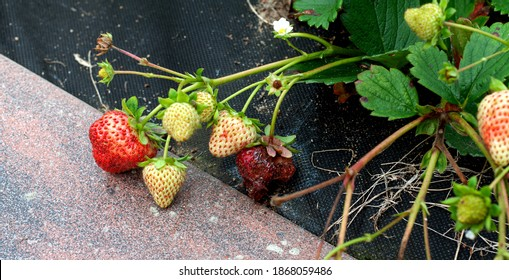ripe: (87, 106, 160, 173)
unripe: (476, 89, 507, 174), (140, 156, 189, 209), (207, 110, 259, 158), (161, 104, 201, 145), (236, 141, 271, 187), (187, 87, 219, 123), (452, 192, 484, 227), (403, 8, 436, 41), (269, 150, 296, 183), (422, 6, 447, 25)
